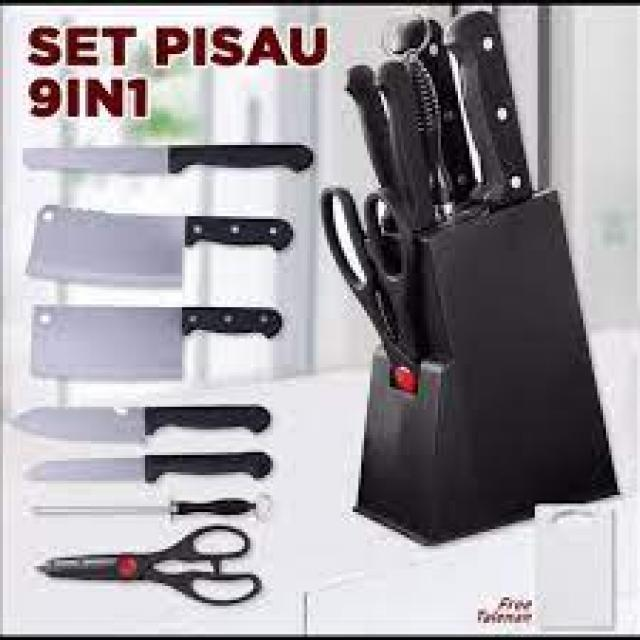knife: (25, 138, 296, 526)
